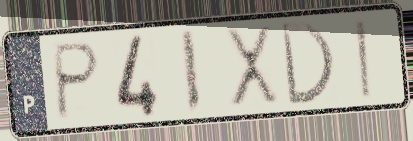4: (114, 31, 163, 121)
D: (277, 20, 338, 108)
I: (178, 27, 203, 117), (352, 16, 374, 101)
P: (52, 39, 103, 124)
X: (222, 23, 282, 109)
